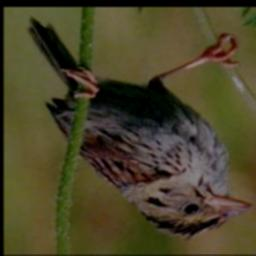Sparrow: (24, 16, 254, 240)
